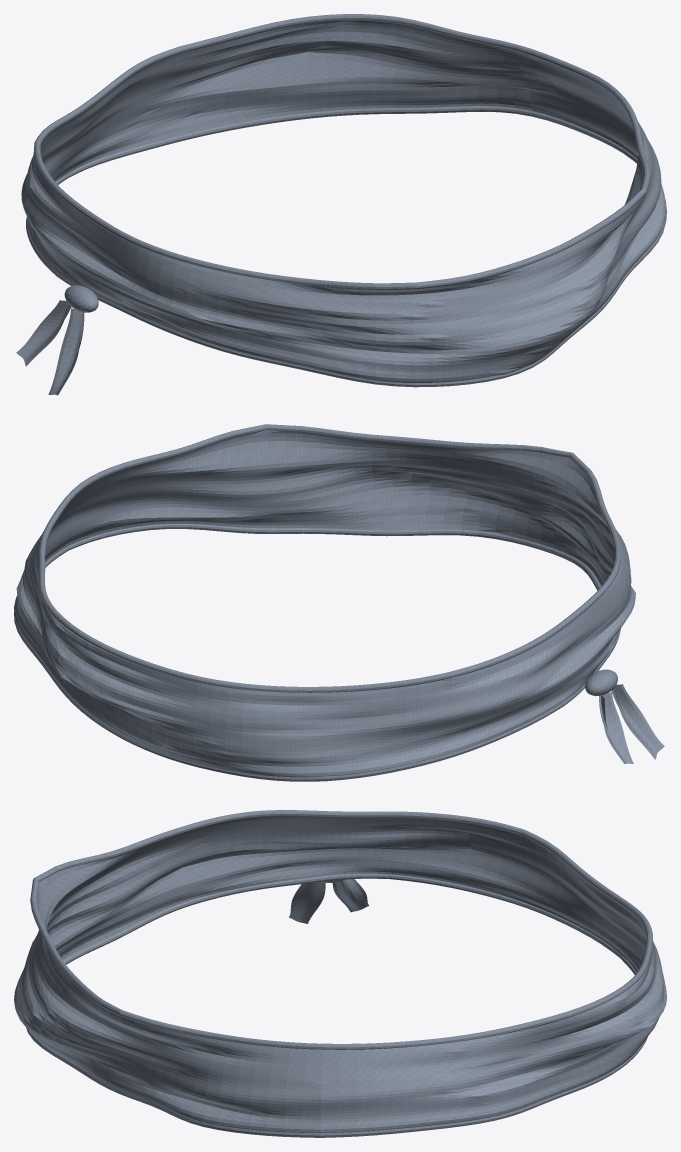
Rendered from side_h_engineer_hachimaki.glb.
3 views of the same model, one above another, from view 1: azimuth 30°, elevation 25°; view 2: azimuth 150°, elevation 25°; view 3: azimuth 270°, elevation 25° (orthographic). The views are drawn at different scales.
Parts seen in each view (by area): view 1: woven_cloth, inner_cloth, folded_edge, wrap_ties; view 2: woven_cloth, inner_cloth, folded_edge, wrap_ties; view 3: woven_cloth, inner_cloth, folded_edge, wrap_ties.
Boxes of the visible parts, x1,y1,x2,y2 form: woven_cloth: (21, 122, 665, 382); inner_cloth: (40, 20, 643, 204); folded_edge: (26, 14, 666, 387); wrap_ties: (16, 300, 84, 395); woven_cloth: (14, 530, 635, 777); inner_cloth: (45, 430, 614, 586); folded_edge: (14, 424, 621, 781); wrap_ties: (599, 684, 664, 763); woven_cloth: (14, 930, 666, 1133); inner_cloth: (36, 816, 646, 972); folded_edge: (26, 810, 652, 1137); wrap_ties: (289, 879, 369, 923).
Size of the model in its own units: 19.96 by 5.02 by 19.2.
4 materials, 4 textured.
